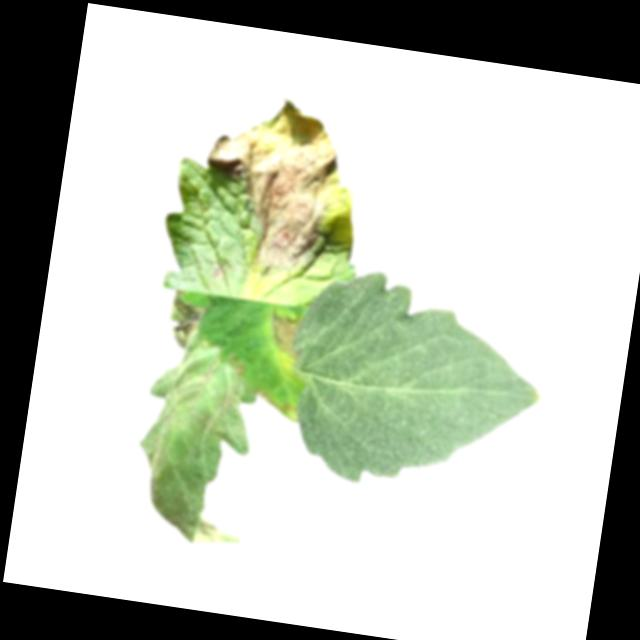Late_blight: (191, 86, 370, 288), (122, 332, 270, 550), (161, 289, 206, 350), (266, 311, 308, 365), (211, 260, 231, 284)
healthy: (274, 260, 558, 510)
